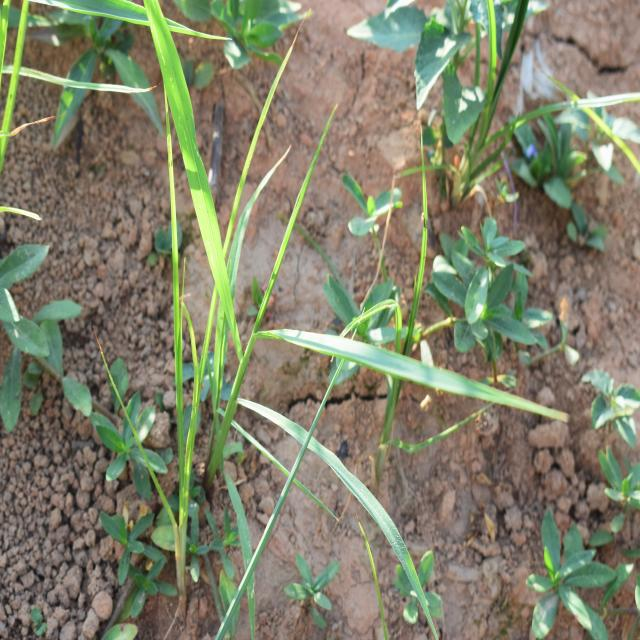green_foxtail: (182, 110, 408, 545)
